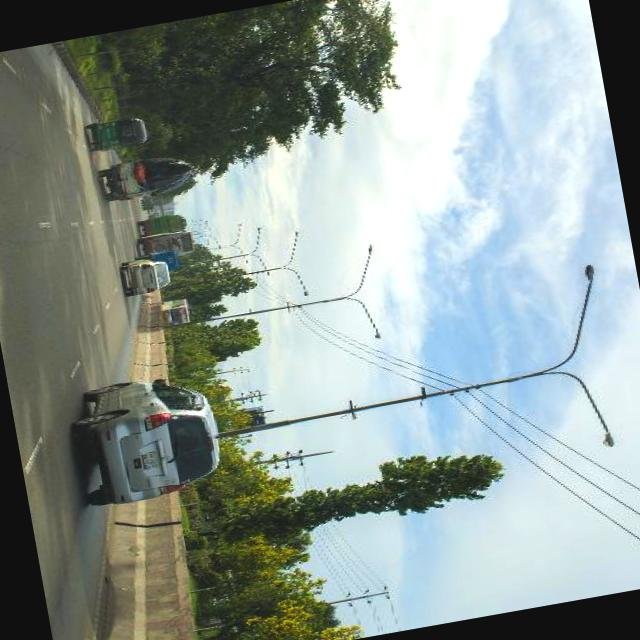bus: (136, 225, 198, 252), (140, 208, 190, 234), (163, 295, 196, 323)
car: (70, 366, 232, 508), (120, 252, 174, 296), (149, 207, 156, 211)
motorcycle: (90, 112, 154, 150), (144, 200, 160, 208), (142, 196, 157, 203)
truck: (103, 149, 202, 202), (166, 246, 184, 274)
